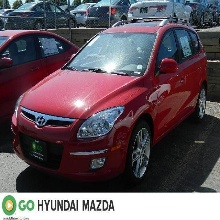no damage: (8, 24, 209, 183), (1, 26, 74, 109)
